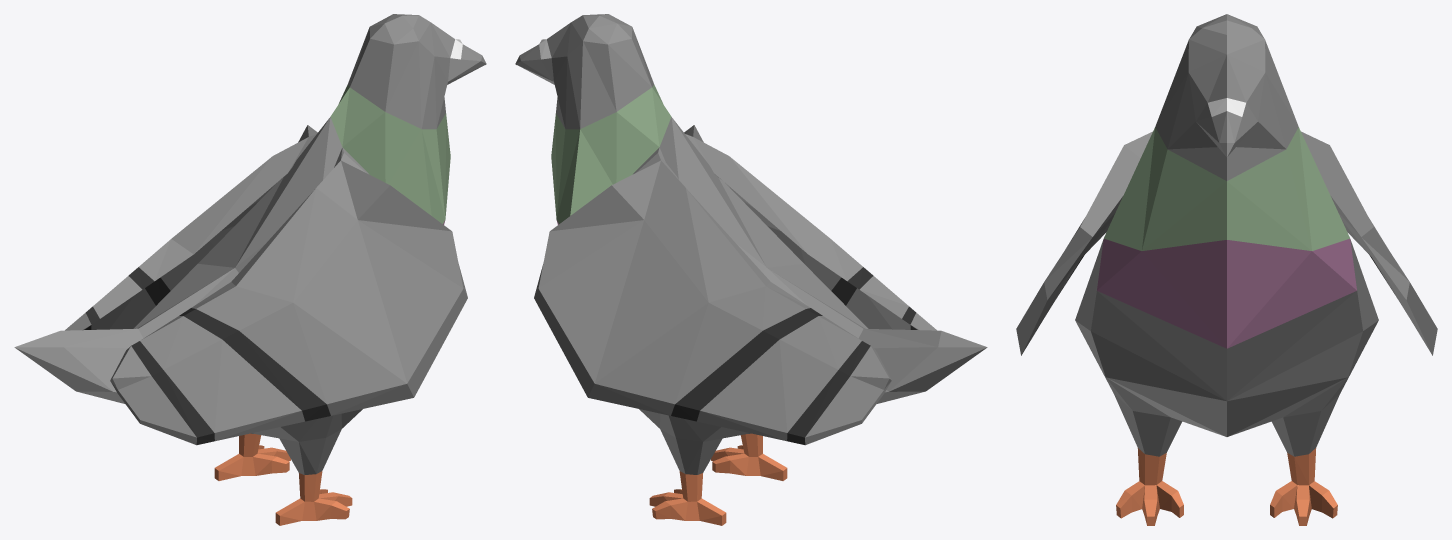
File: pigeon.glb
3 views of the same model, side by side, from view 1: azimuth 30°, elevation 25°; view 2: azimuth 150°, elevation 25°; view 3: azimuth 270°, elevation 25° (orthographic). The views are drawn at different scales.
Visible parts, largest first — view 1: Pigeon; view 2: Pigeon; view 3: Pigeon.
Boxes of the visible parts, x1=… form: Pigeon: x1=14, y1=14, x2=486, y2=525; Pigeon: x1=515, y1=14, x2=987, y2=525; Pigeon: x1=1016, y1=14, x2=1437, y2=525.
Size of the model in its own units: 2.72 by 2.47 by 1.69.
